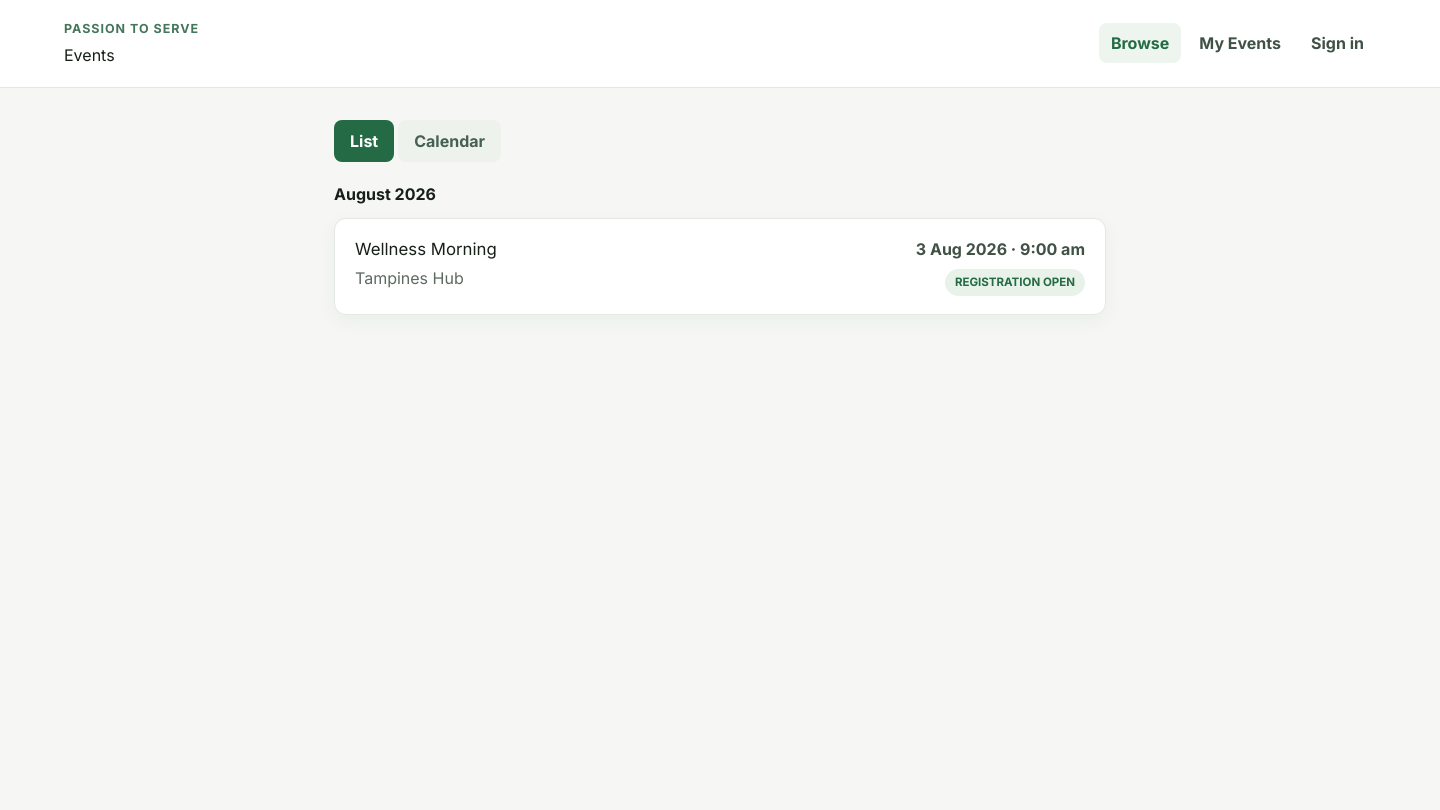
Test: Calendar view › navigates to the next/previous month and back
Check: the heading "Wellness Morning" is shown, box [355,237,497,262]
Click the tab "Calendar".
click(450, 141)  # box [398,120,501,162]
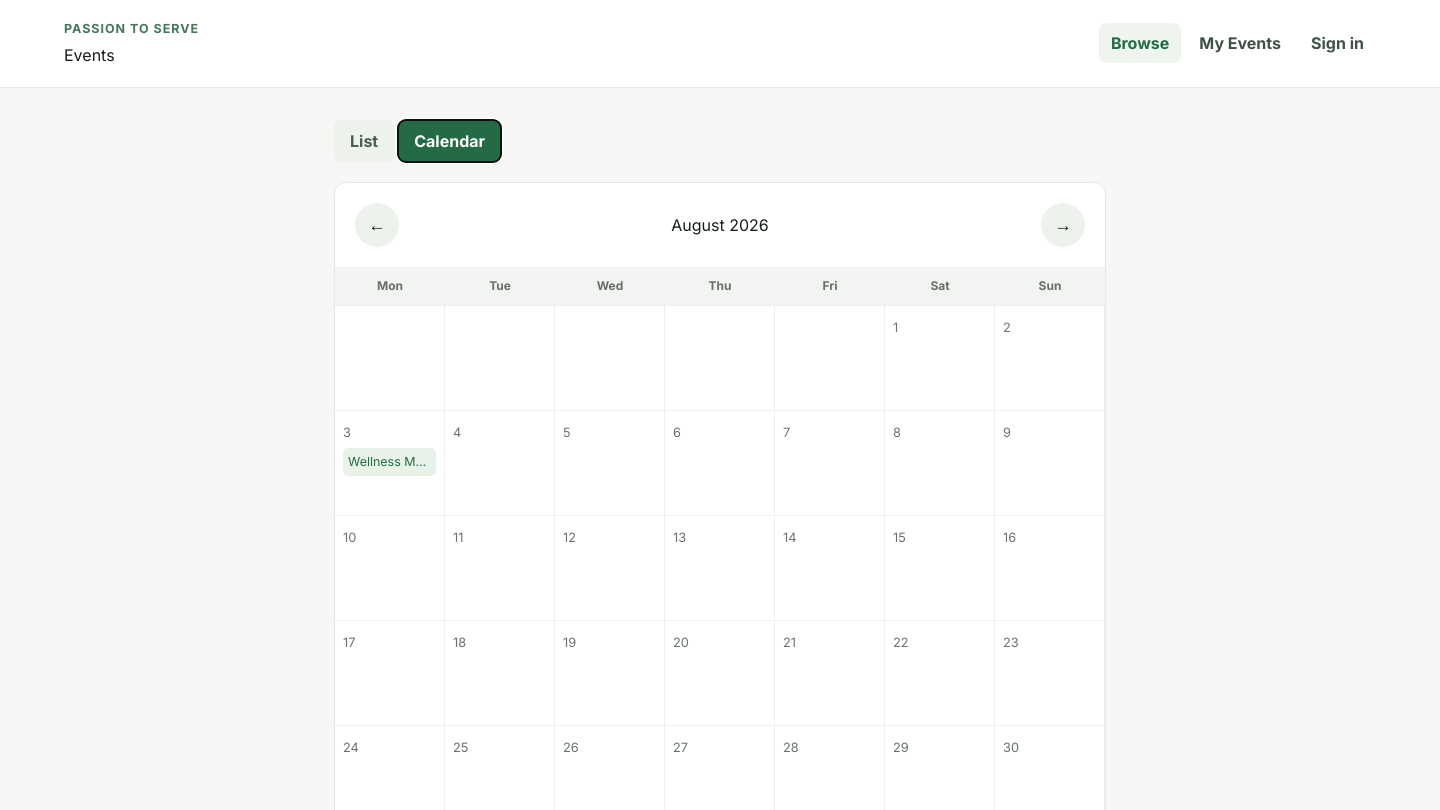
Check: the link "Wellness Morning" is shown, box [343,448,436,476]
Click the button named "Next month".
click(1063, 225)  # box [1041,203,1085,247]
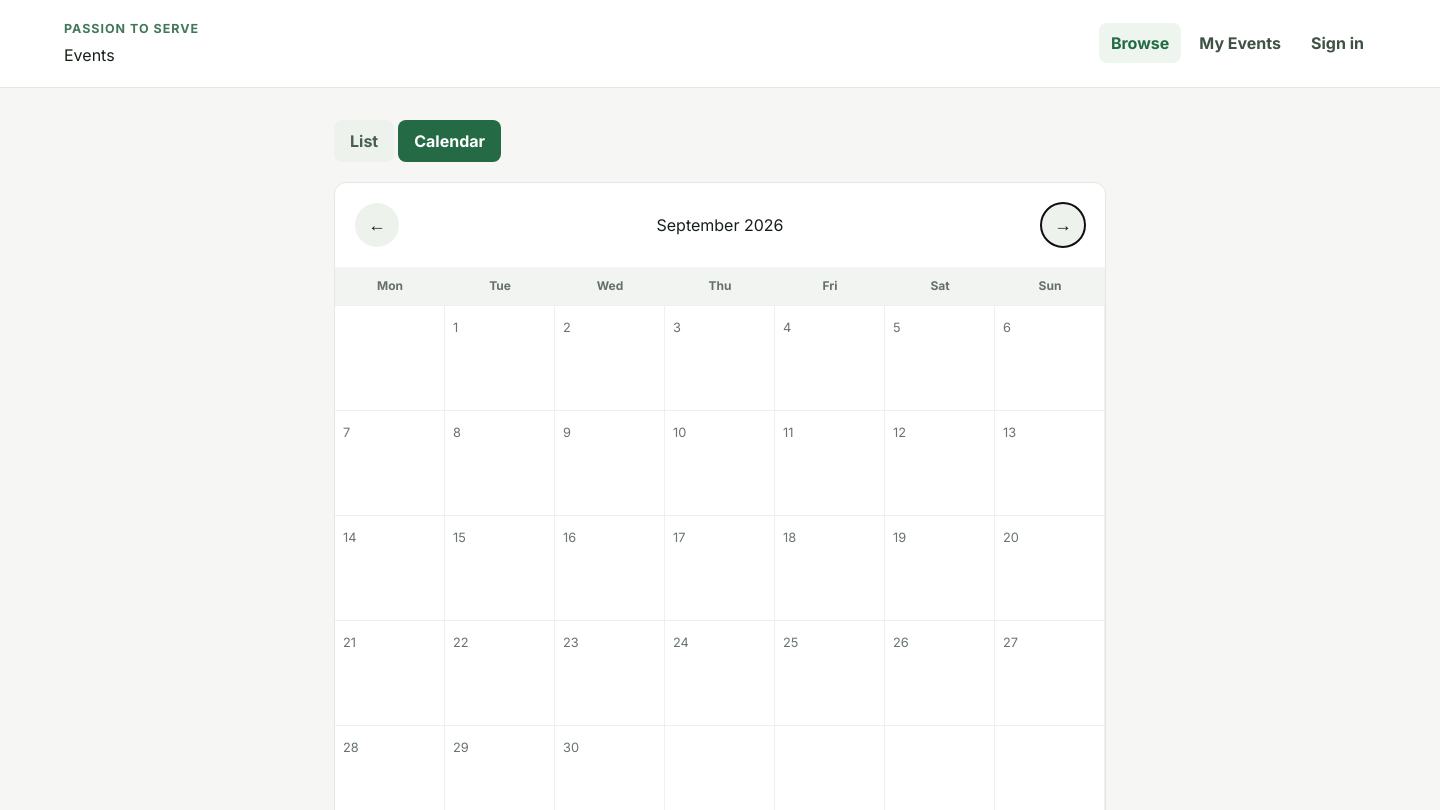
Check: the heading "August 2026" no longer shows "August 2026"
Check: the link "Wellness Morning" is gone
Click the button named "Previous month".
click(377, 225)  # box [355,203,399,247]
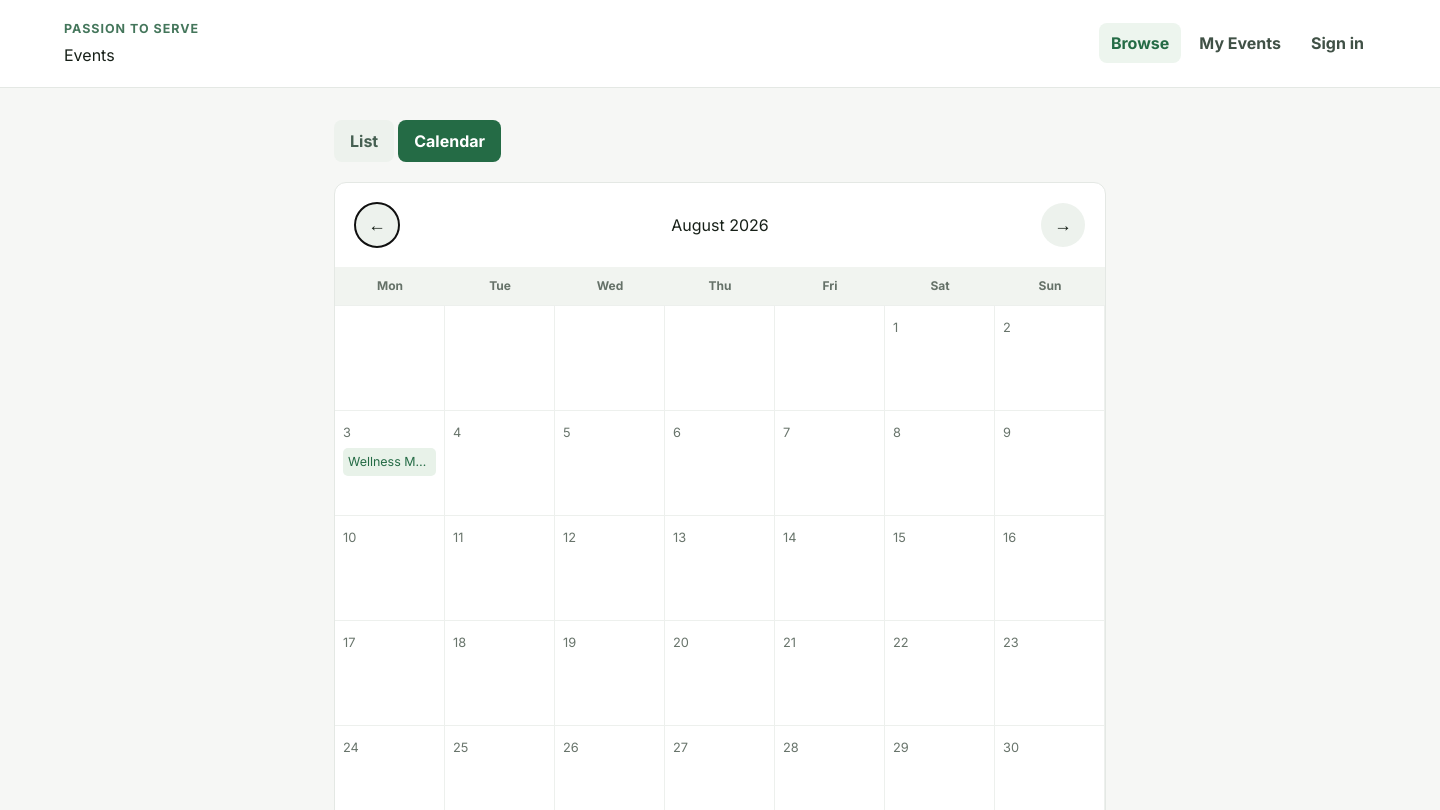
Check: the heading "August 2026" is shown, box [671,215,769,235]
Check: the link "Wellness Morning" is shown, box [343,448,436,476]
